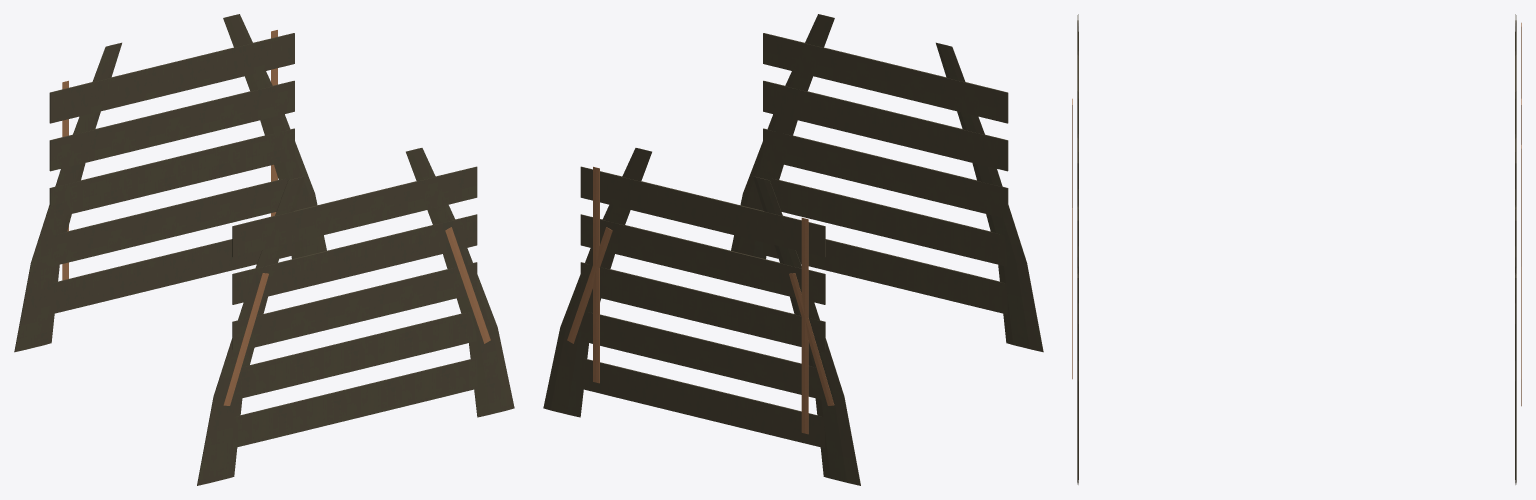
Rendered from rootfall-root-archive-0.glb.
The picture shows the model from 3 angles, left to right: view 1: azimuth 30°, elevation 25°; view 2: azimuth 150°, elevation 25°; view 3: azimuth 270°, elevation 25°; orthographic projection. The views are drawn at different scales.
Visible parts, largest first — view 1: rootfall-root-archive_LOD0; view 2: rootfall-root-archive_LOD0; view 3: rootfall-root-archive_LOD0.
Part boxes in pixels (x1,y1,x2,y2): rootfall-root-archive_LOD0: (14, 14, 514, 485); rootfall-root-archive_LOD0: (543, 14, 1043, 485); rootfall-root-archive_LOD0: (1072, 14, 1521, 484).
Size of the model in its own units: 0.9741 by 0.83 by 0.9954.
Materials: 2 (2 with a texture image).
